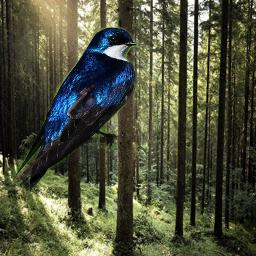Swallow: (12, 27, 139, 189)
